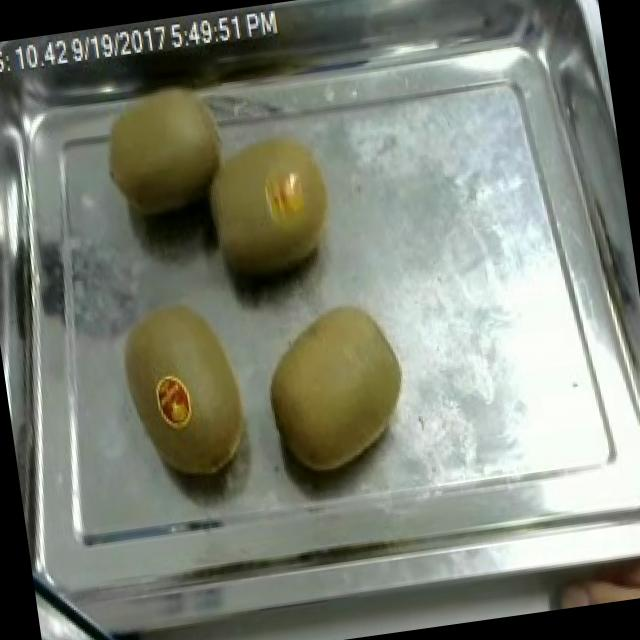Fruit: (250, 291, 425, 486), (102, 286, 265, 494), (188, 115, 354, 298), (90, 68, 238, 228)
